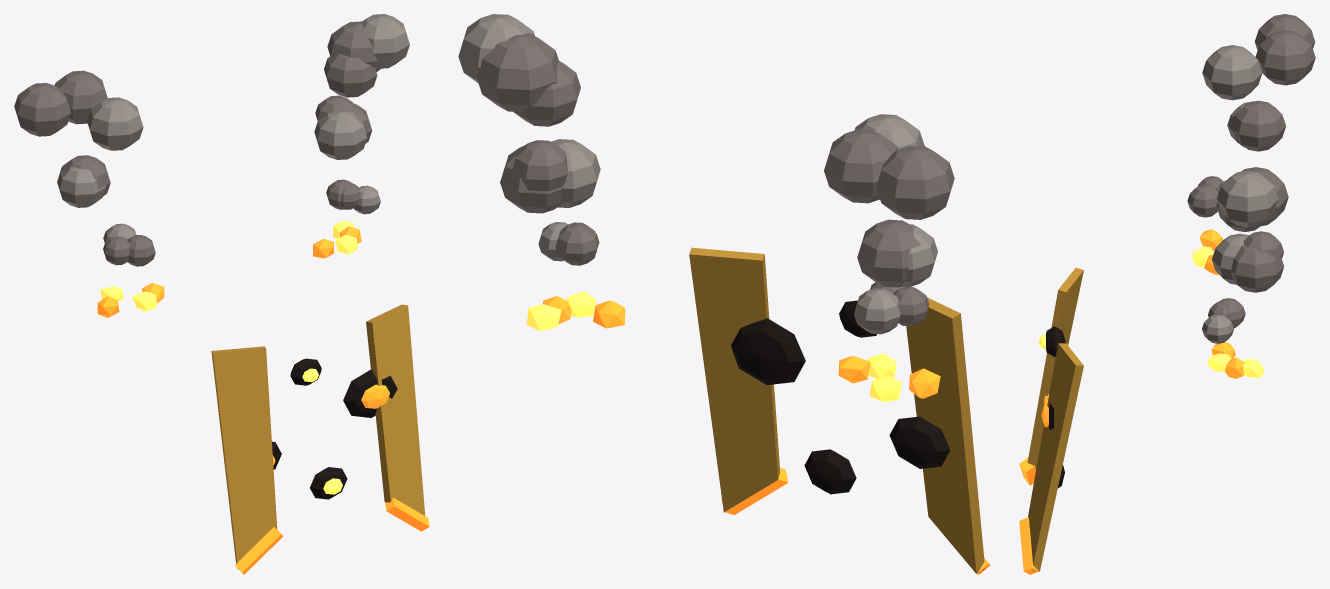
File: fallen_priest_smolder.glb
3 renders of one model, left to right at view 1: azimuth 30°, elevation 25°; view 2: azimuth 150°, elevation 25°; view 3: azimuth 270°, elevation 25°, orthographic. The views are drawn at different scales.
Visible parts, largest first — view 1: fallen_priest_smolder; view 2: fallen_priest_smolder; view 3: fallen_priest_smolder.
Boxes of the visible parts, box(x1,y1,x2,y2) form: fallen_priest_smolder: box(14, 14, 429, 574); fallen_priest_smolder: box(458, 14, 990, 574); fallen_priest_smolder: box(1019, 14, 1315, 574).
Bounding box in the file's own units: 1 × 1.09 × 0.673.
